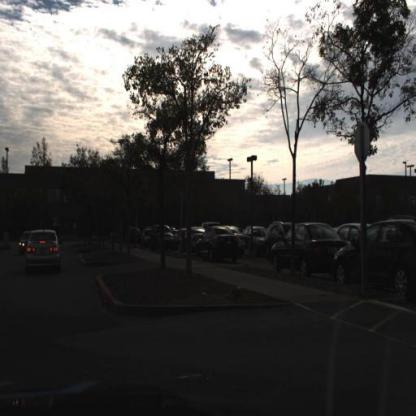car: (334, 216, 416, 298), (269, 220, 339, 280), (197, 226, 240, 268), (25, 230, 63, 277), (151, 221, 181, 252), (180, 225, 202, 258), (266, 219, 291, 244), (243, 222, 266, 244)
